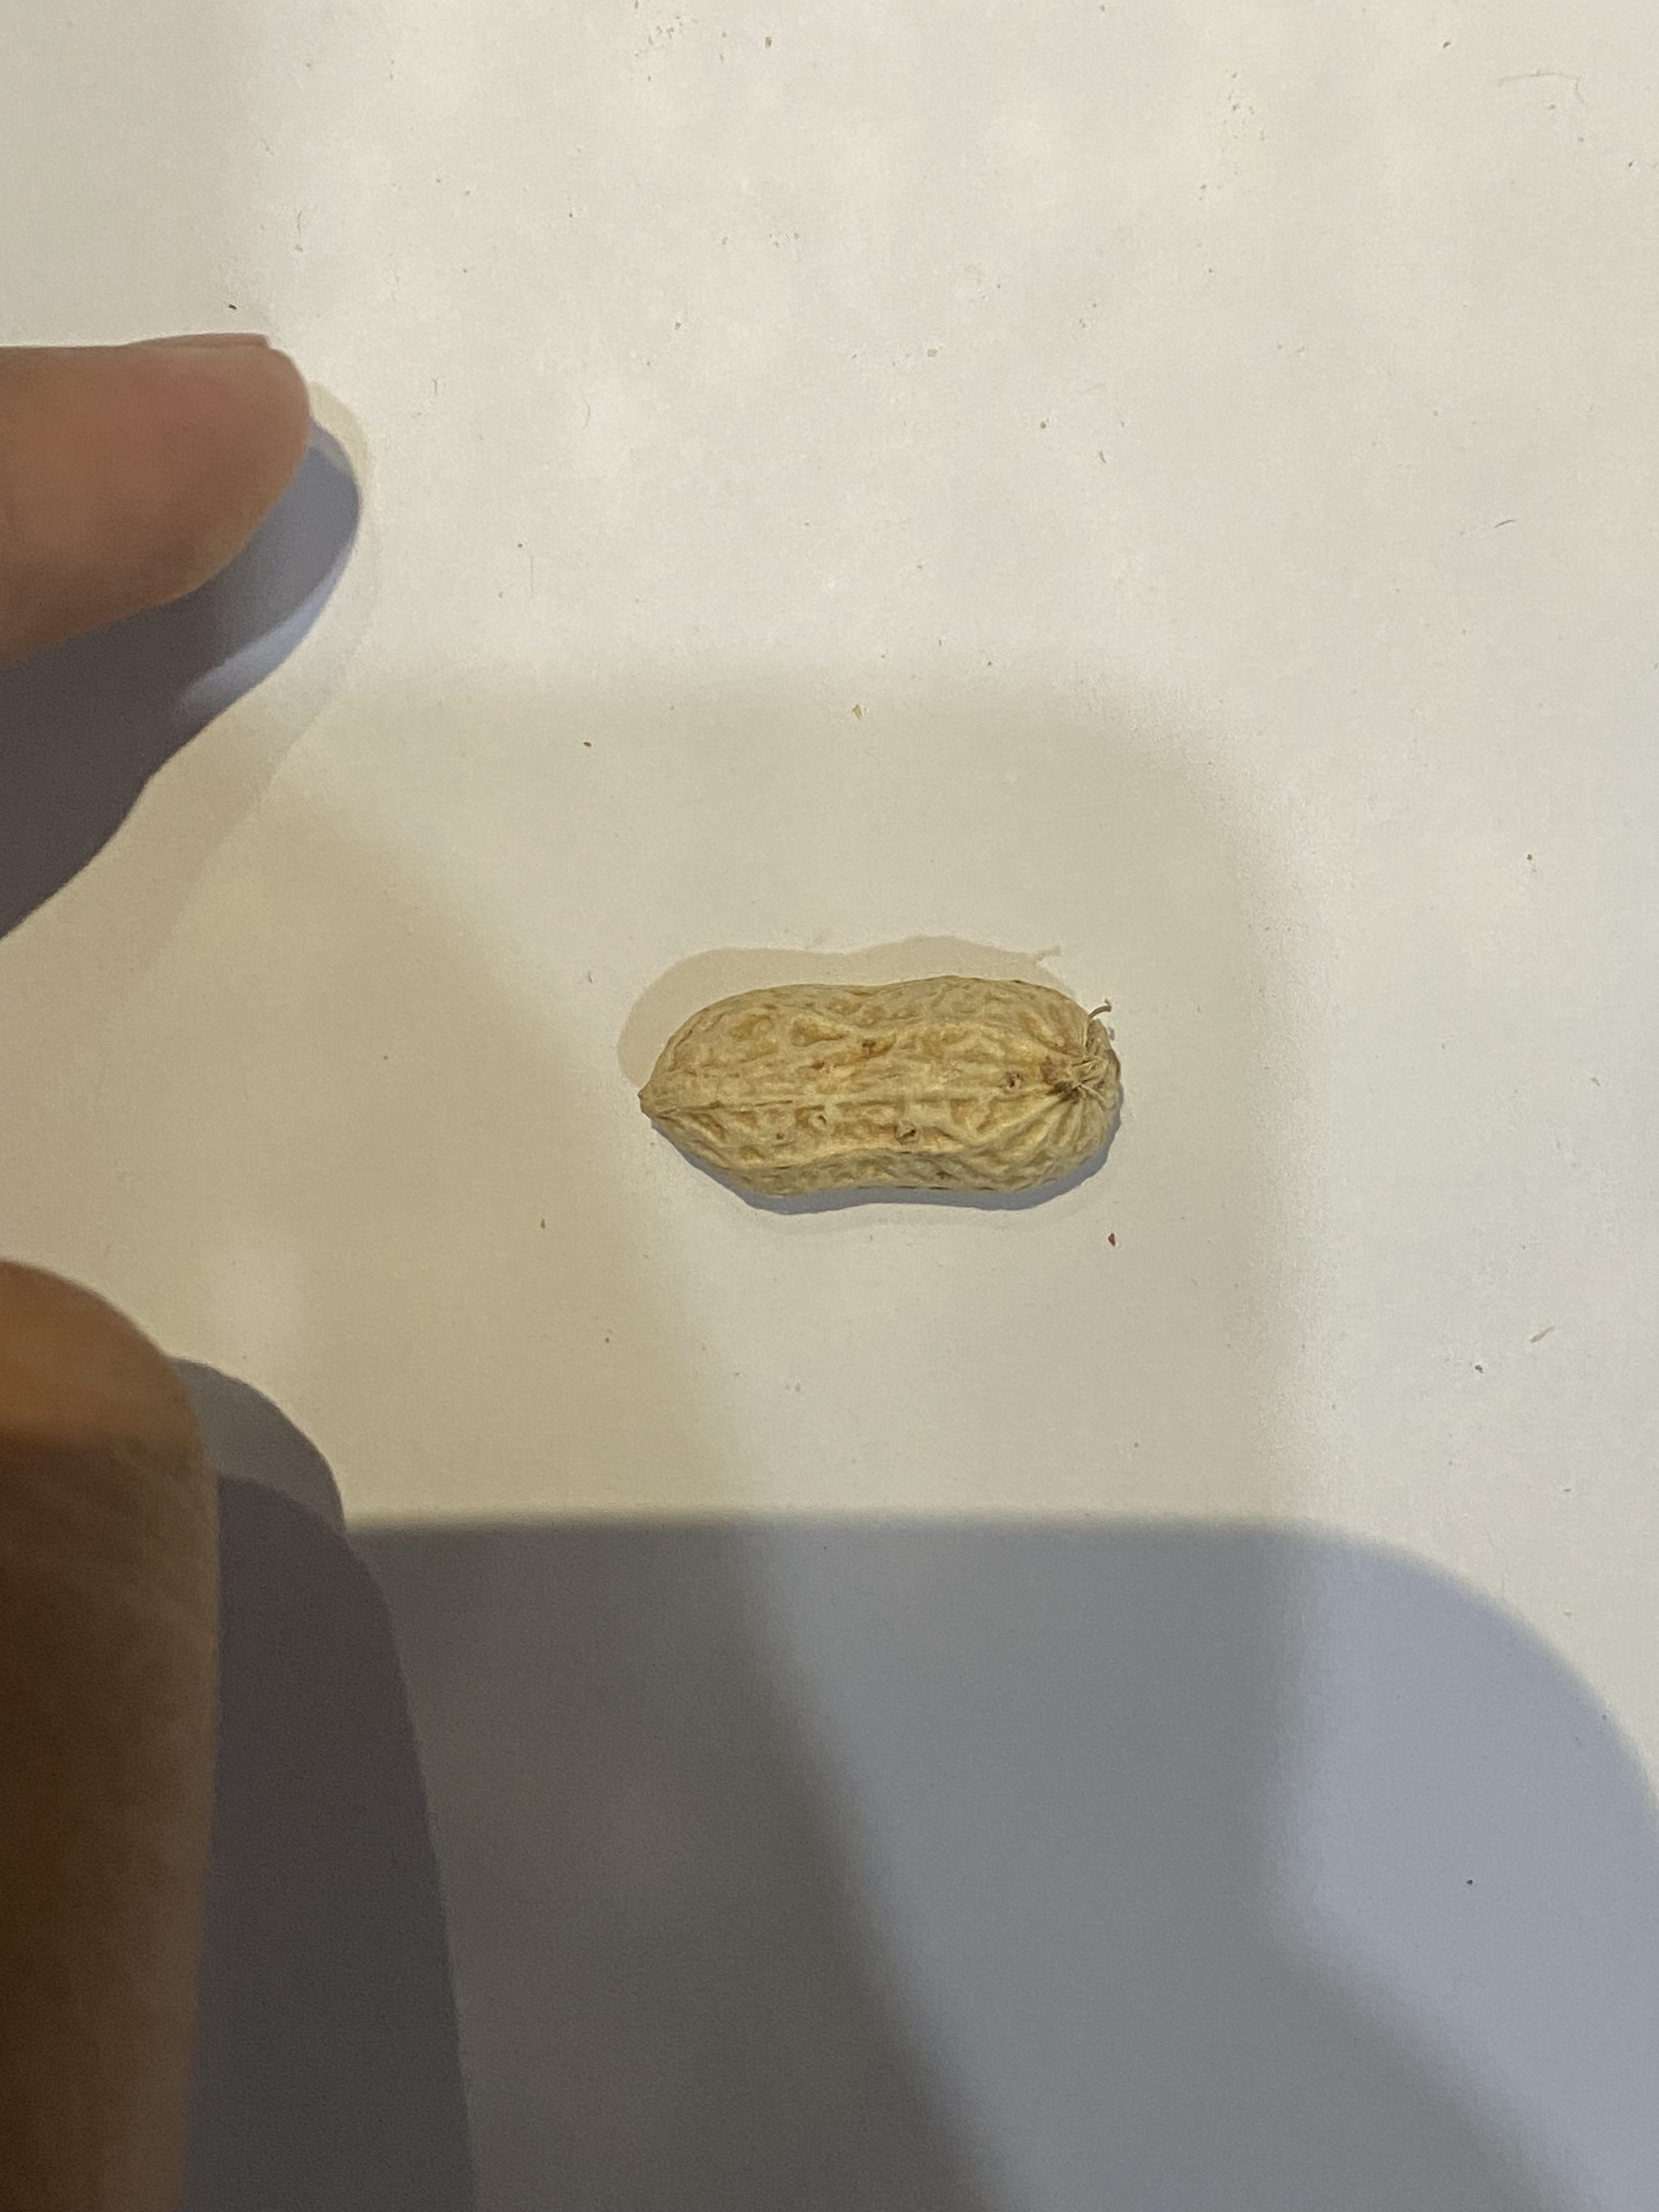kacang2: (613, 974, 1143, 1200)
